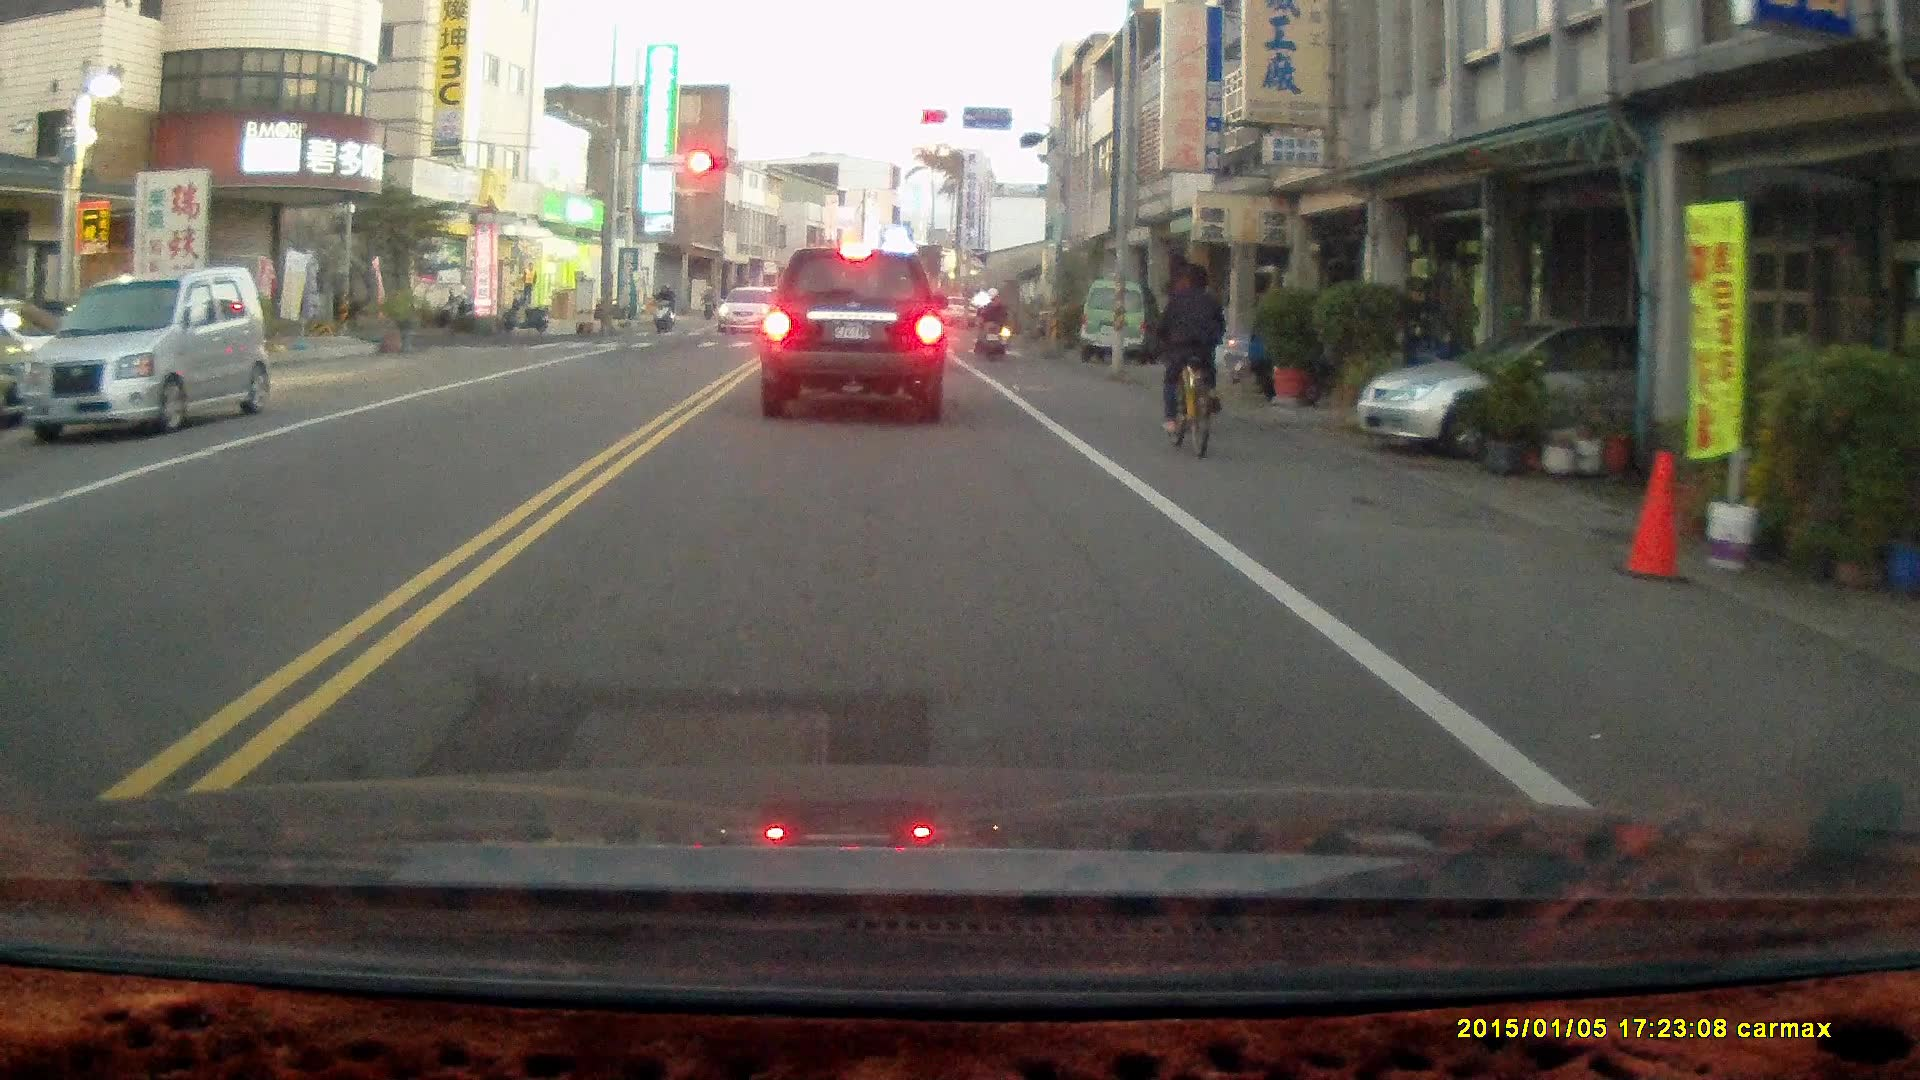pedestrian: (518, 261, 538, 309)
rider: (1157, 263, 1227, 459), (971, 284, 1012, 360), (650, 281, 677, 333)
vehicle: (1358, 321, 1774, 466), (18, 267, 276, 451), (758, 247, 951, 427), (1081, 286, 1161, 363)
